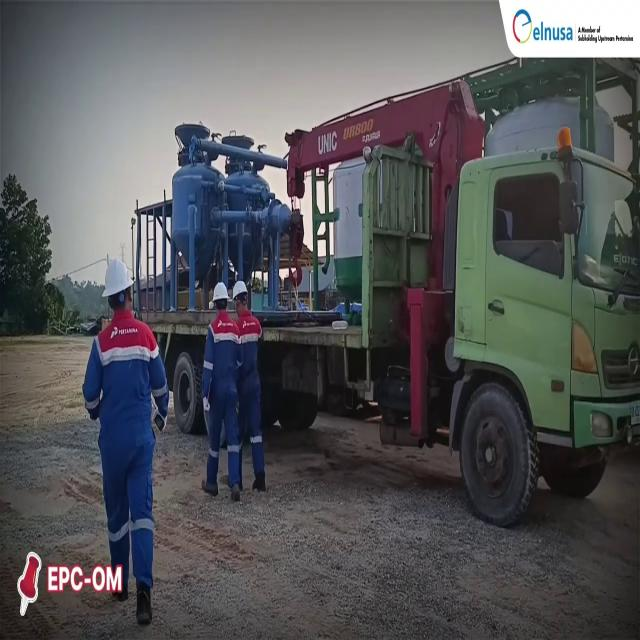Gloves: (153, 407, 168, 430)
Hardhat: (100, 260, 136, 294), (230, 278, 250, 302), (212, 282, 230, 306)
Overall Suit: (82, 298, 169, 572), (202, 317, 244, 480), (238, 314, 264, 475)
Safety Boots: (136, 577, 152, 628), (202, 471, 220, 495), (256, 469, 266, 496), (230, 481, 242, 500)
